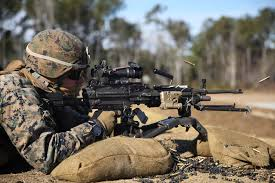gun: (43, 58, 250, 129)
